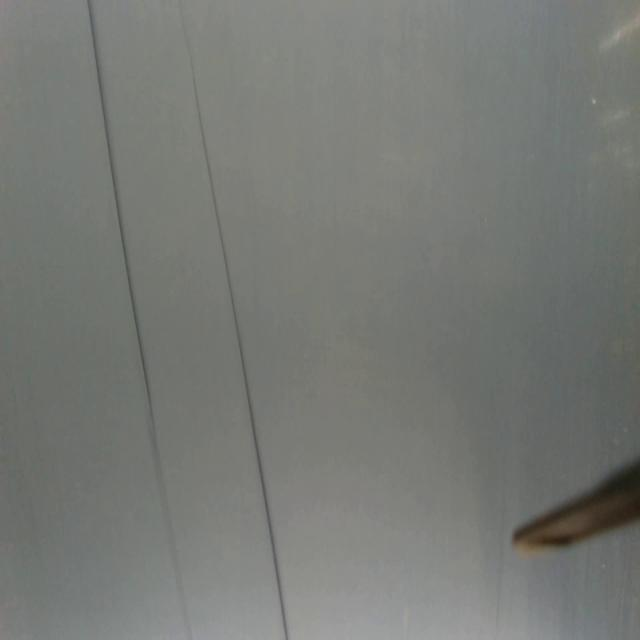crease: (85, 0, 193, 640), (180, 3, 288, 640)
